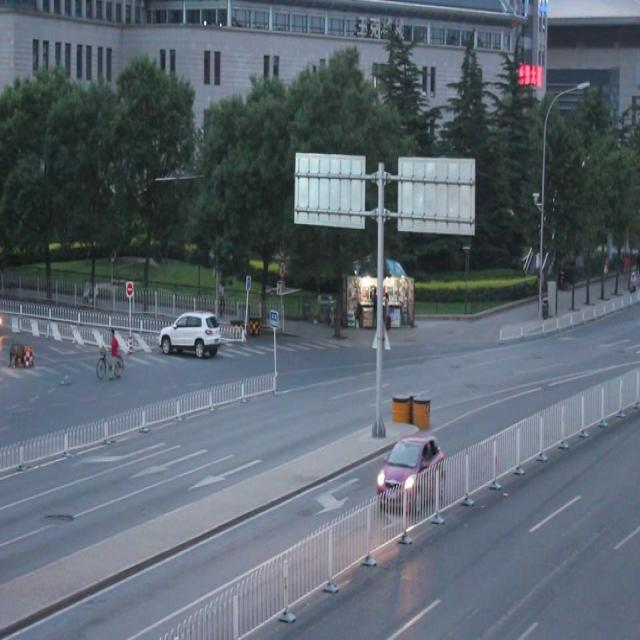car: (376, 431, 445, 508), (157, 307, 222, 360)
